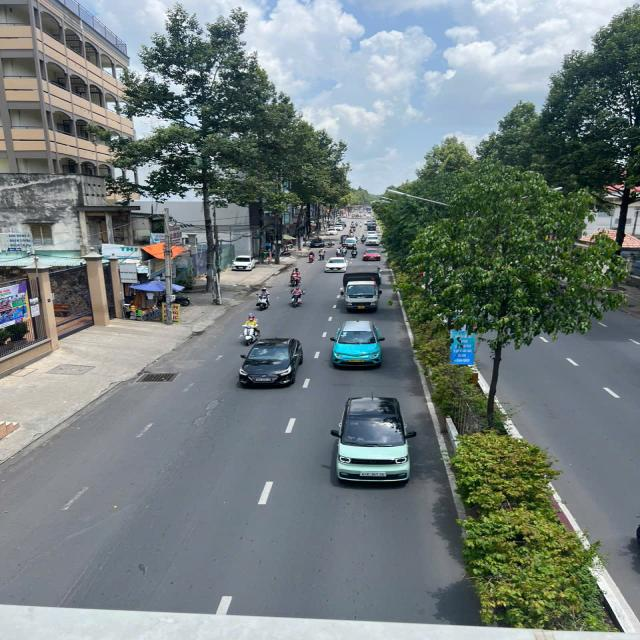ben: (340, 262, 384, 314), (366, 218, 378, 233)
car: (330, 394, 417, 488), (234, 335, 306, 393), (327, 316, 386, 372), (322, 252, 349, 275), (230, 250, 258, 272), (361, 244, 385, 264), (343, 235, 360, 251), (362, 234, 382, 246), (309, 235, 326, 248), (324, 224, 339, 237)
motobyte: (243, 311, 261, 347), (254, 287, 273, 311), (288, 285, 306, 309), (291, 264, 304, 287), (316, 243, 328, 264), (349, 243, 360, 260), (307, 248, 316, 265)
